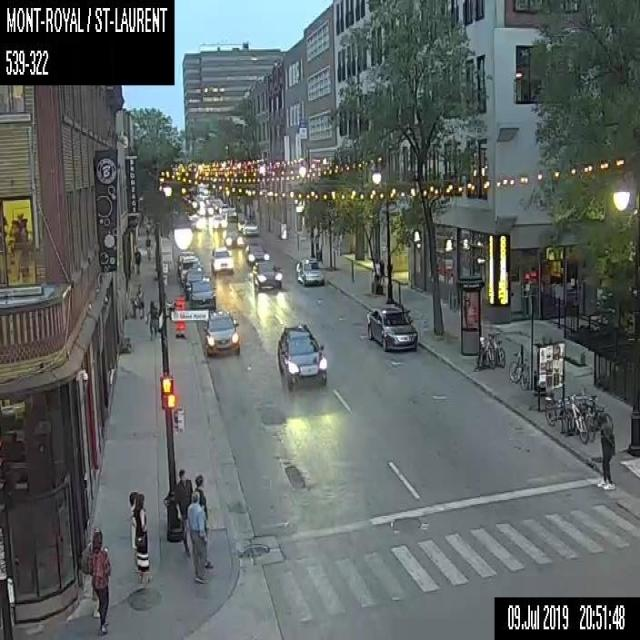construction: (174, 295, 185, 337)
pedestrian: (184, 490, 207, 584), (192, 473, 214, 568), (90, 529, 110, 632), (81, 525, 101, 617), (174, 468, 192, 556), (132, 492, 148, 583), (596, 415, 614, 489), (130, 281, 144, 319), (128, 491, 136, 550), (146, 300, 157, 340), (376, 260, 384, 296), (314, 232, 319, 260), (145, 232, 150, 259), (135, 247, 140, 273)
vehicle: (276, 322, 326, 388), (366, 301, 418, 351), (203, 311, 239, 354), (295, 256, 324, 286), (254, 260, 282, 289), (188, 281, 216, 309), (180, 255, 203, 285), (210, 247, 233, 271), (244, 242, 268, 264), (176, 250, 198, 274), (183, 269, 204, 293), (222, 231, 242, 246), (242, 220, 258, 234), (224, 206, 238, 219), (200, 202, 213, 215), (212, 215, 226, 227), (189, 214, 201, 228), (191, 195, 203, 208), (208, 197, 221, 209), (218, 202, 230, 213), (237, 219, 246, 230)
